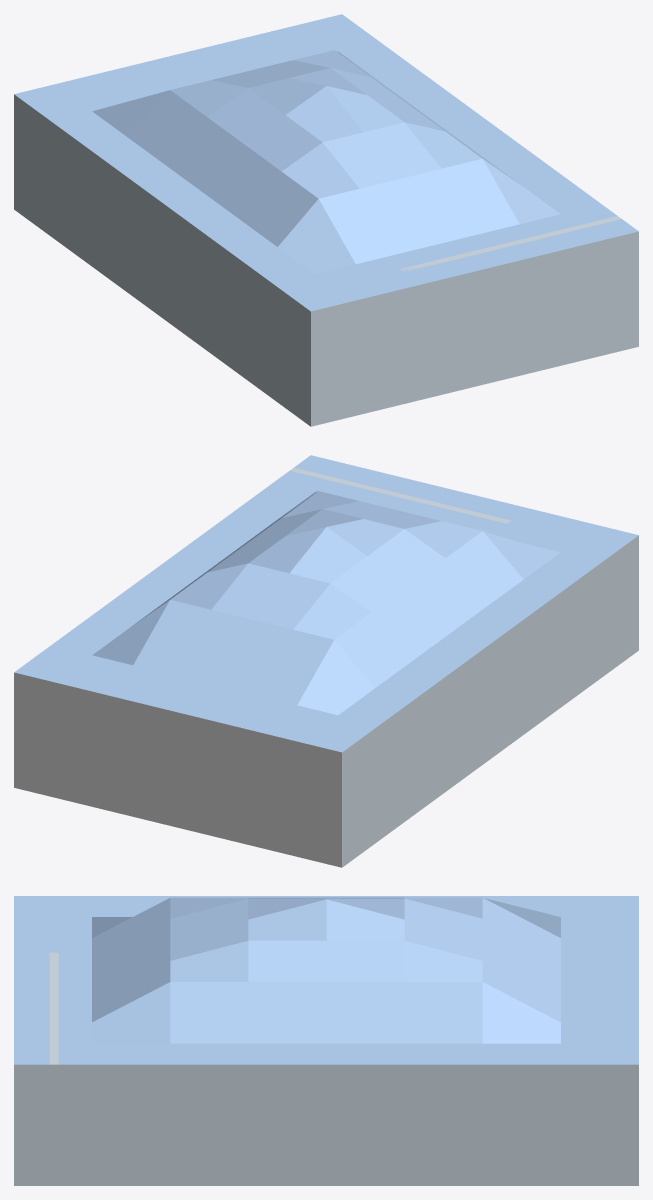
File: Estructura Aeropuerto.fbx
3 views of the same model, one above another, from view 1: azimuth 30°, elevation 25°; view 2: azimuth 150°, elevation 25°; view 3: azimuth 270°, elevation 25° (orthographic). The views are drawn at different scales.
Parts seen in each view (by area): view 1: Techo, Pared.003, Pared.001, Pared.004; view 2: Techo, Cristal, Pared.001, Pared.004; view 3: Techo, Pared.002, Pared.004.
Boxes of the visible parts, x1,y1,x2,y2 form: Techo: (14, 14, 638, 311); Pared.003: (311, 231, 638, 426); Pared.001: (14, 94, 310, 426); Pared.004: (400, 216, 621, 271); Techo: (14, 455, 638, 752); Cristal: (14, 672, 341, 867); Pared.001: (342, 535, 638, 867); Pared.004: (290, 467, 511, 523); Techo: (14, 896, 638, 1064); Pared.002: (14, 1064, 638, 1185); Pared.004: (49, 952, 58, 1185).
Bounding box in the file's own units: 1787 × 1000 × 2800.
